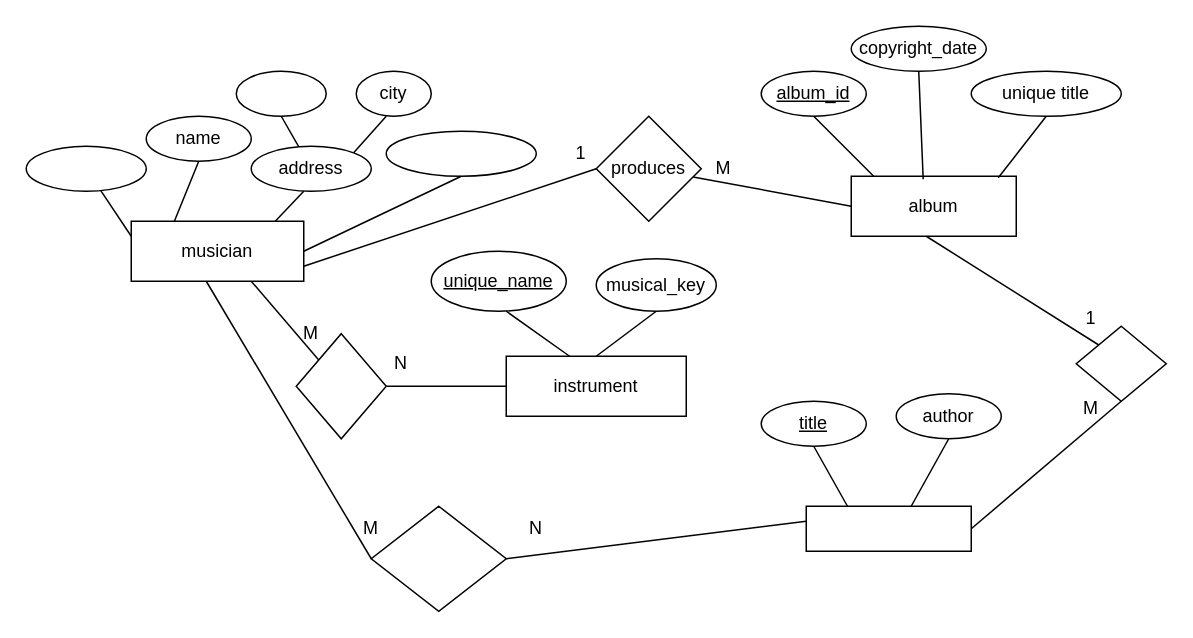
The diagram is 1193 pixels wide and 638 high, and some of its shapes have lost their labels. The box of each missing label's shape, as (x1, y1, x2, y2) in pixels:
has: (1075, 325, 1166, 401)
musician_id: (25, 145, 146, 191)
performs: (370, 505, 506, 611)
phone_number: (385, 130, 536, 176)
plays: (295, 332, 386, 439)
song: (805, 505, 971, 551)
street: (235, 70, 326, 116)
